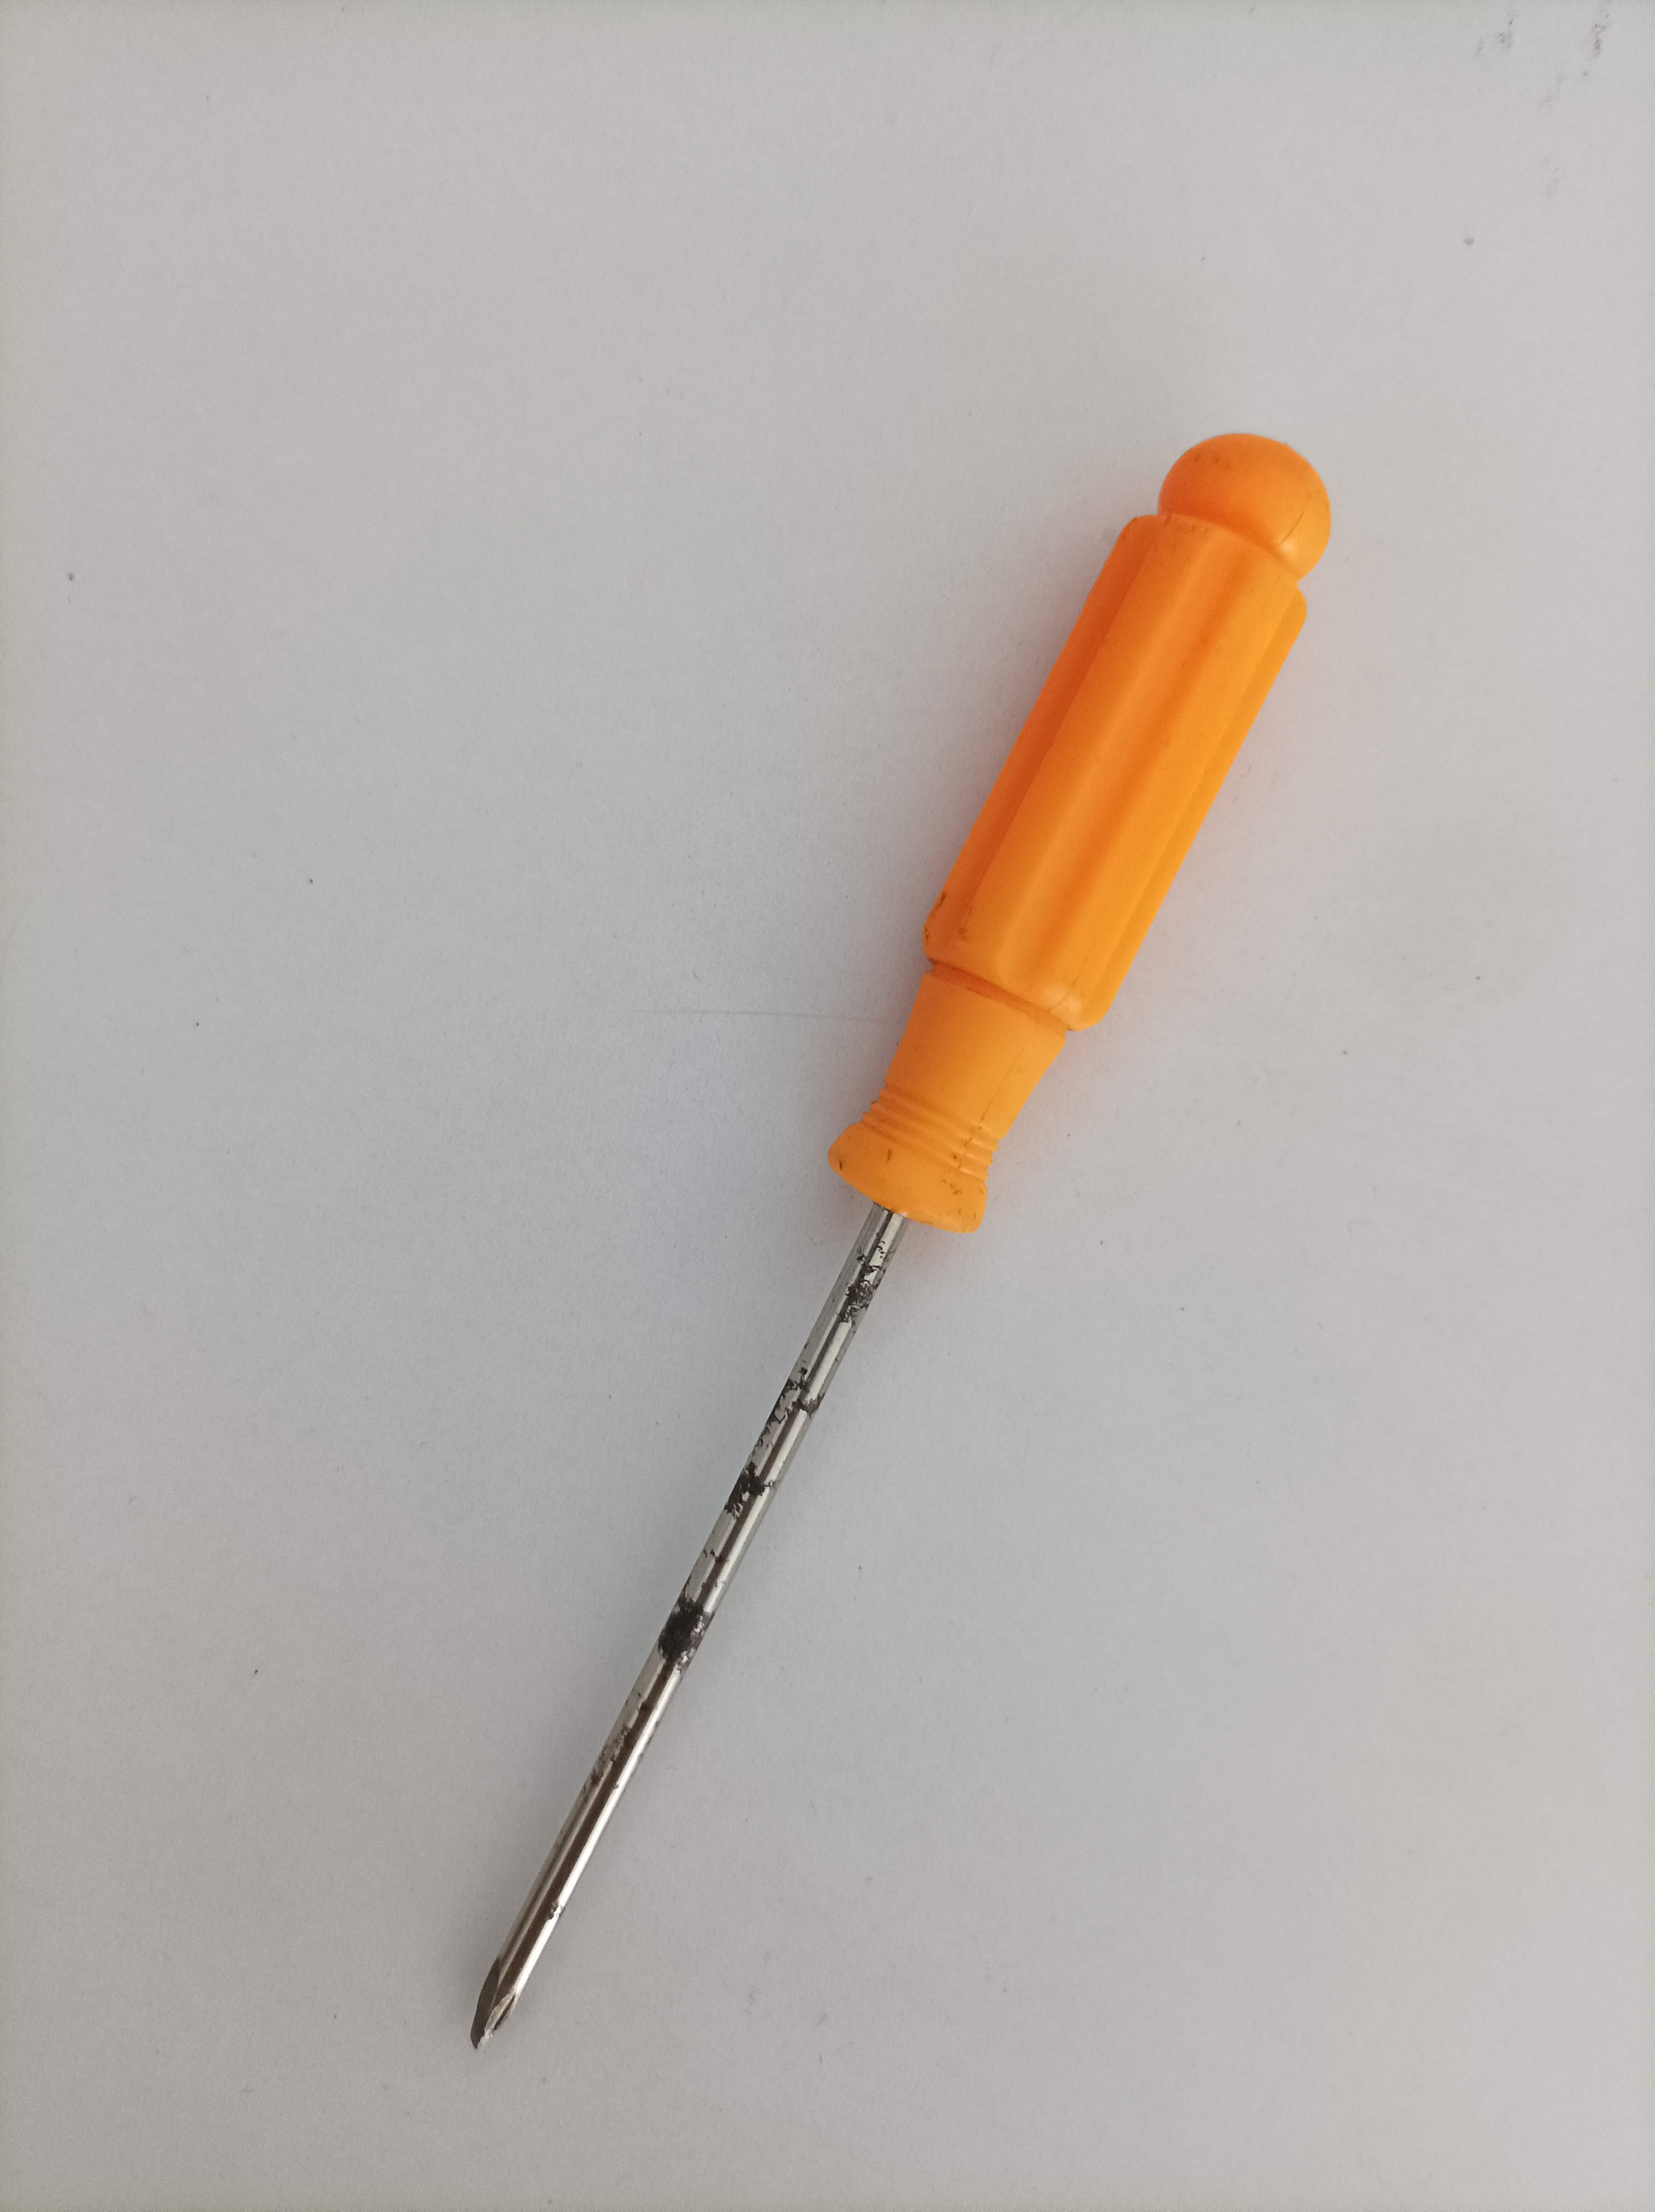screwdriver: (452, 422, 1333, 2078)
